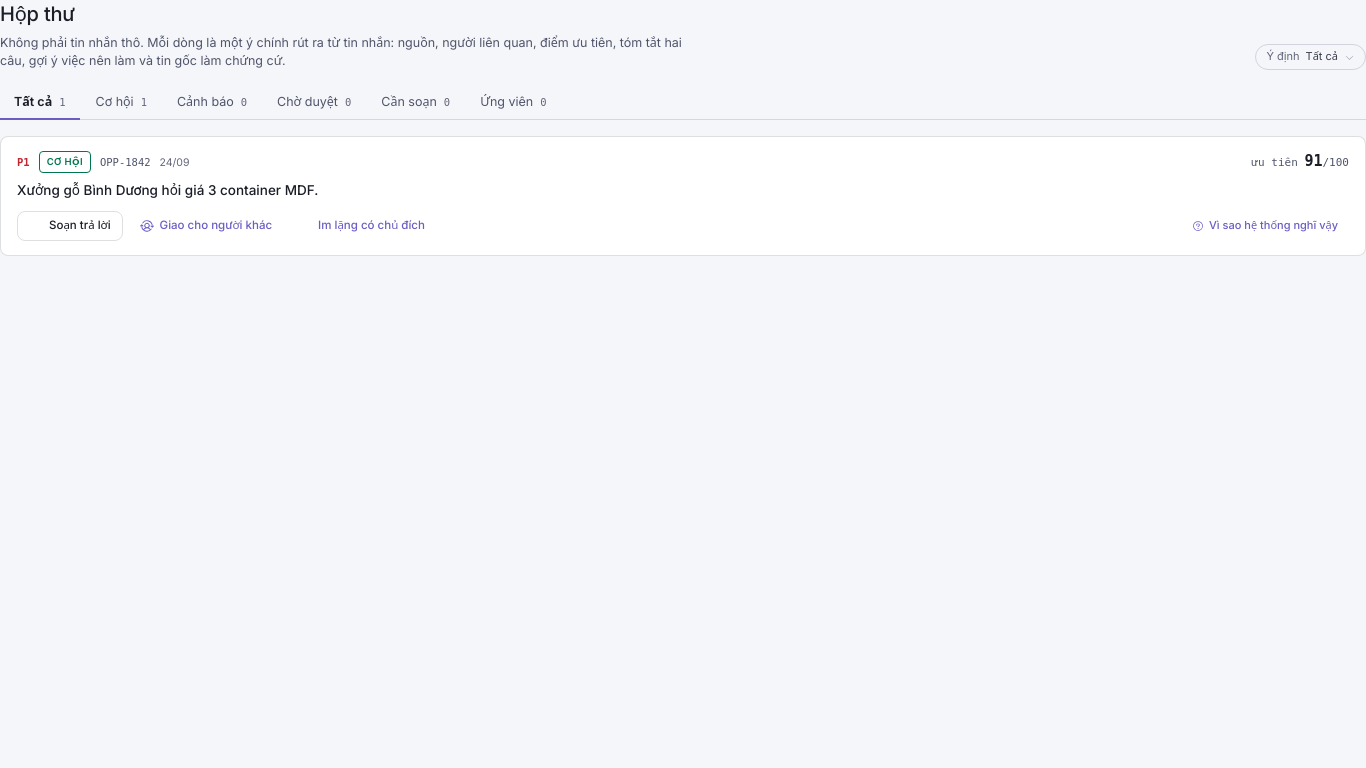
Test: Hộp thư ý nghĩa › Giao cho người khác › chỉ có người đang đăng nhập → "Tôi" + gợi ý: operator (không roles.manage) → nhờ Owner mời
Expected: the heading "Xưởng gỗ Bình Dương hỏi giá 3 container MDF." is shown, [17, 182, 318, 198]
Click the button "Giao cho người khác".
click(206, 226)  # box [131, 213, 281, 239]
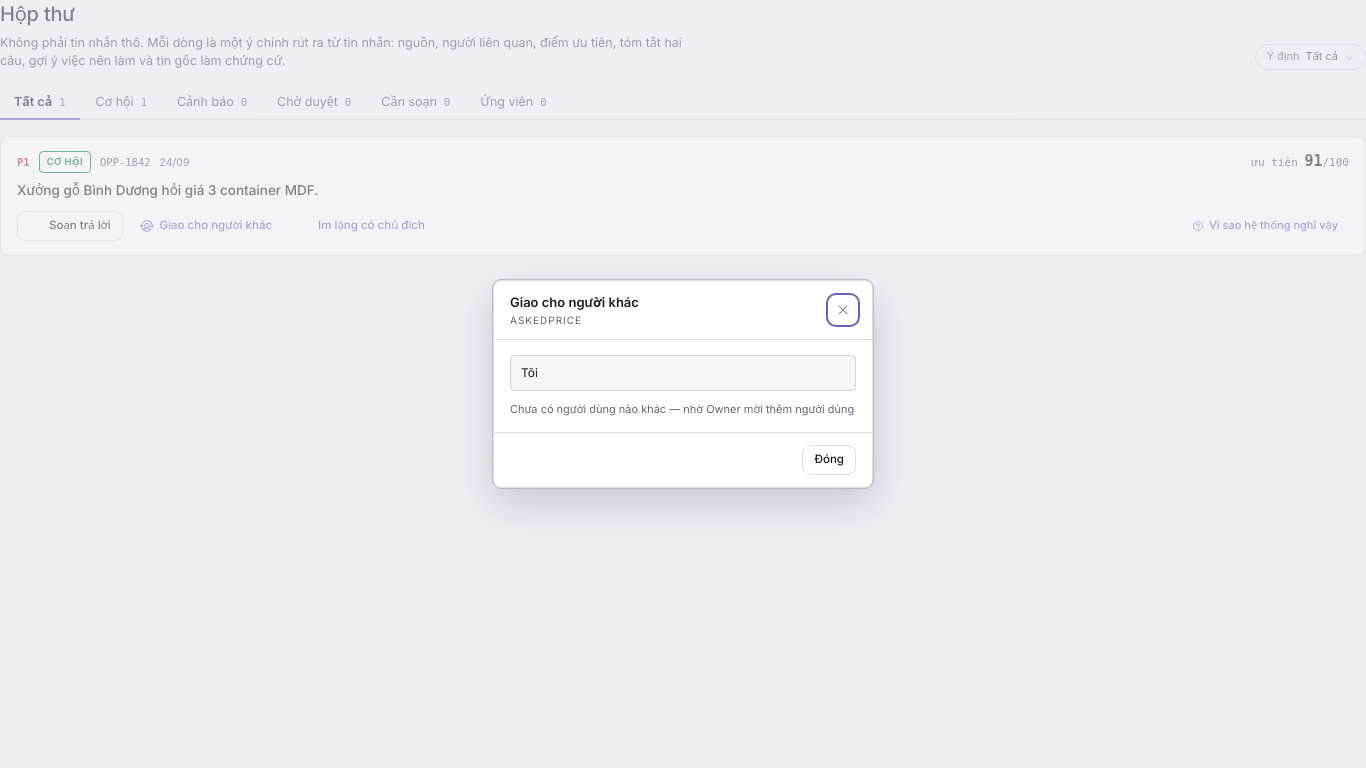
Now the text "Chưa có người dùng nào khác — nhờ Owner mời thêm người dùng" is shown, box [510, 401, 856, 417]
Now the text "Tôi" is shown, box [521, 365, 538, 380]
